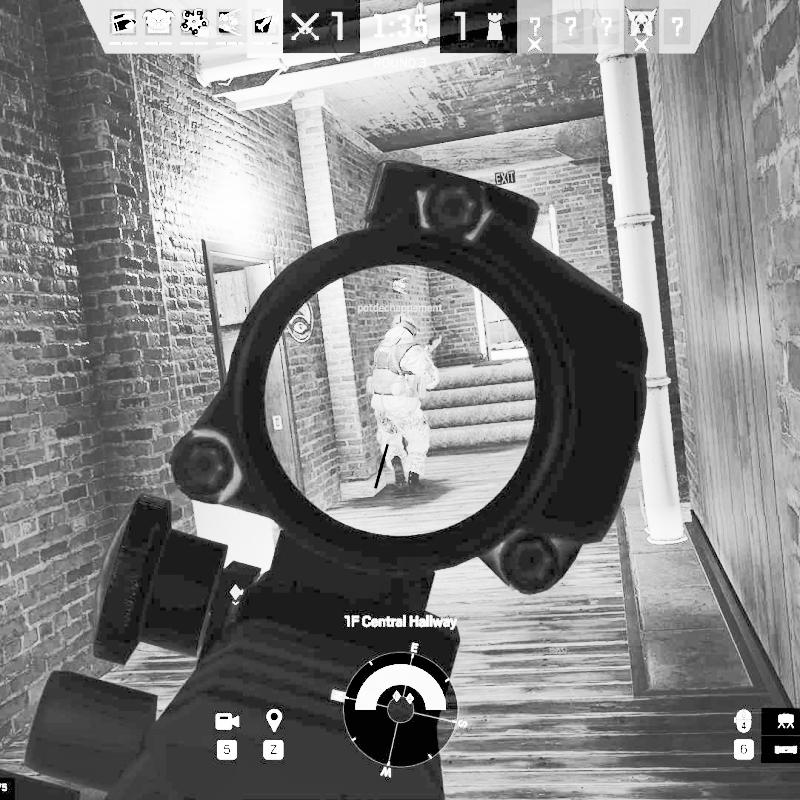Character: (364, 313, 444, 496)
Friend_label: (356, 275, 444, 314)
Head: (390, 313, 420, 341)
